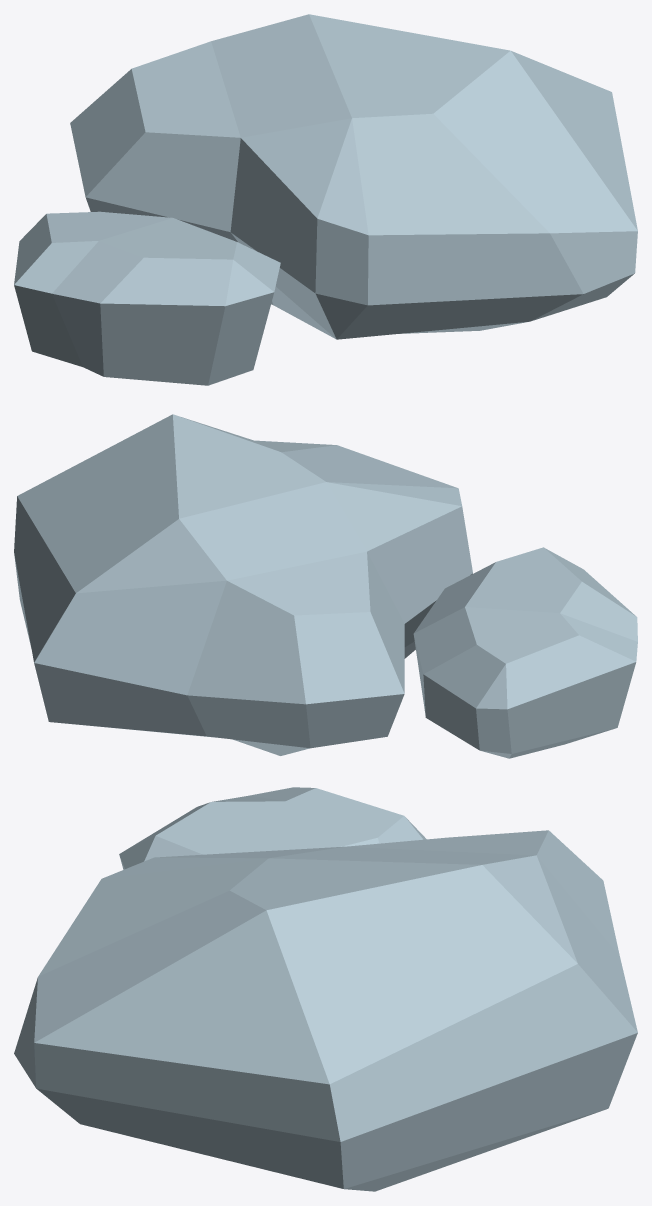
The model's file is rocher_2.fbx.
3 views of the same model, one above another, from view 1: azimuth 30°, elevation 25°; view 2: azimuth 150°, elevation 25°; view 3: azimuth 270°, elevation 25° (orthographic). The views are drawn at different scales.
Parts seen in each view (by area): view 1: rocher_2, pCube46; view 2: rocher_2, pCube46; view 3: rocher_2, pCube46.
Part boxes in pixels (x1=…): rocher_2: x1=70, y1=14, x2=637, y2=339; pCube46: x1=14, y1=211, x2=280, y2=385; rocher_2: x1=14, y1=414, x2=472, y2=755; pCube46: x1=413, y1=547, x2=637, y2=758; rocher_2: x1=14, y1=830, x2=637, y2=1191; pCube46: x1=119, y1=787, x2=426, y2=869.
Size of the model in its own units: 2.49 by 0.8657 by 1.99.
